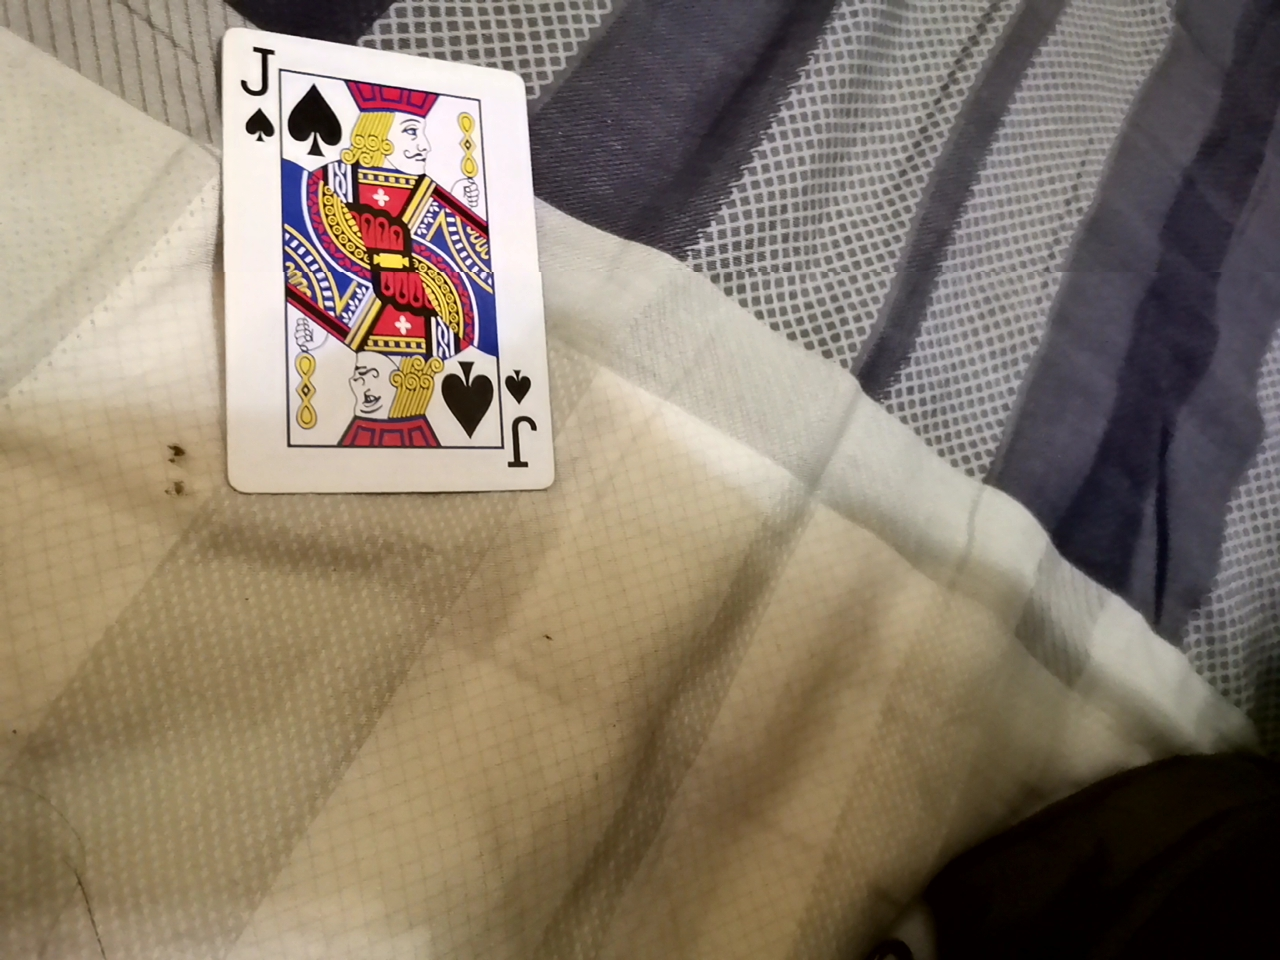ht j: (204, 39, 557, 505)
